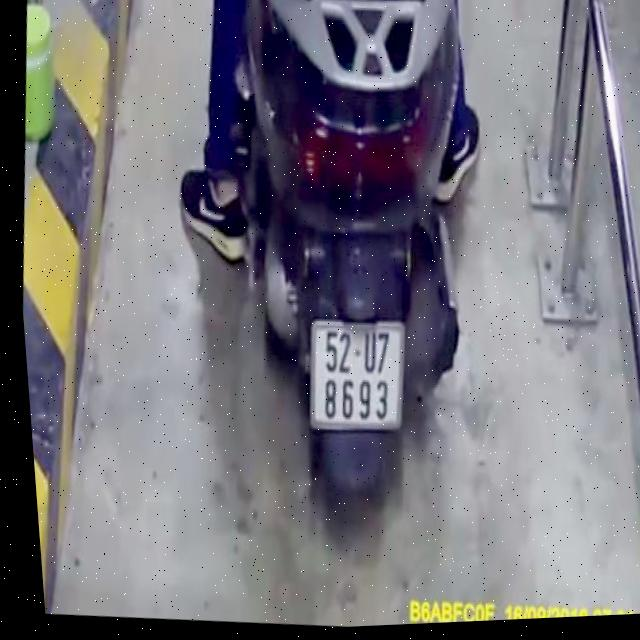motorcycle: (186, 0, 524, 527)
plate: (293, 311, 416, 443)
